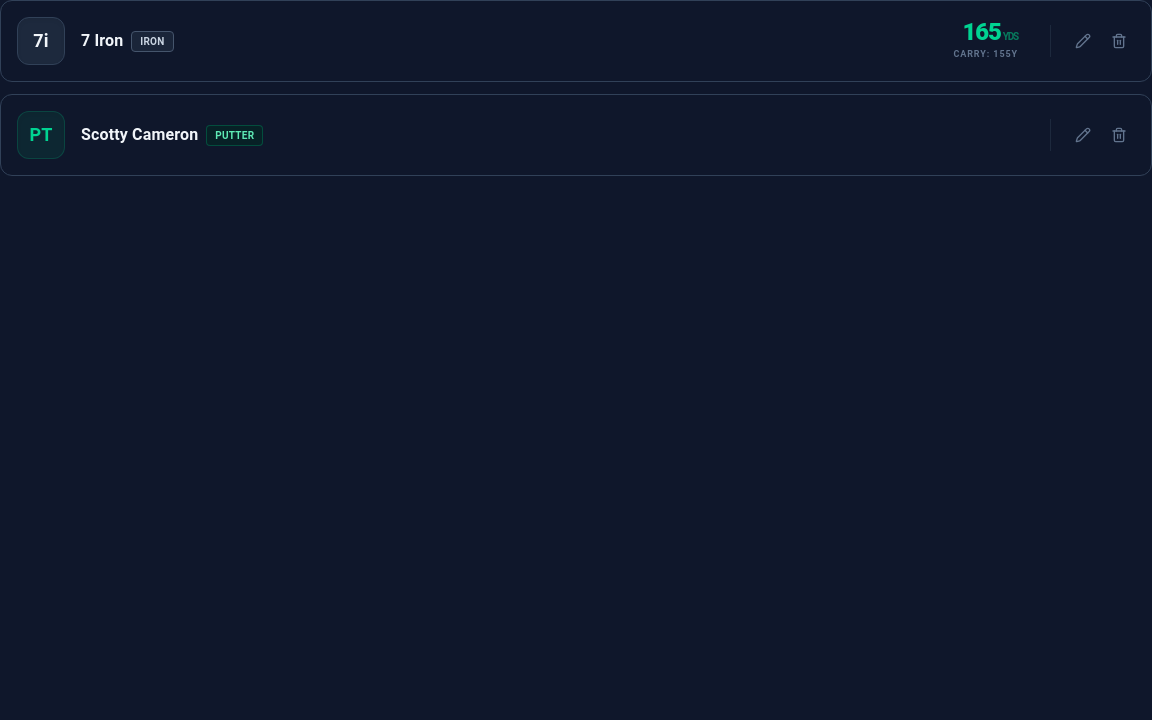
Test: BagClubList Component › Edit Mode — Cancelling › returns to display mode when Cancel is clicked
Click the button named "Edit 7 Iron" at (1083, 41), box 1067,25 -> 1099,57
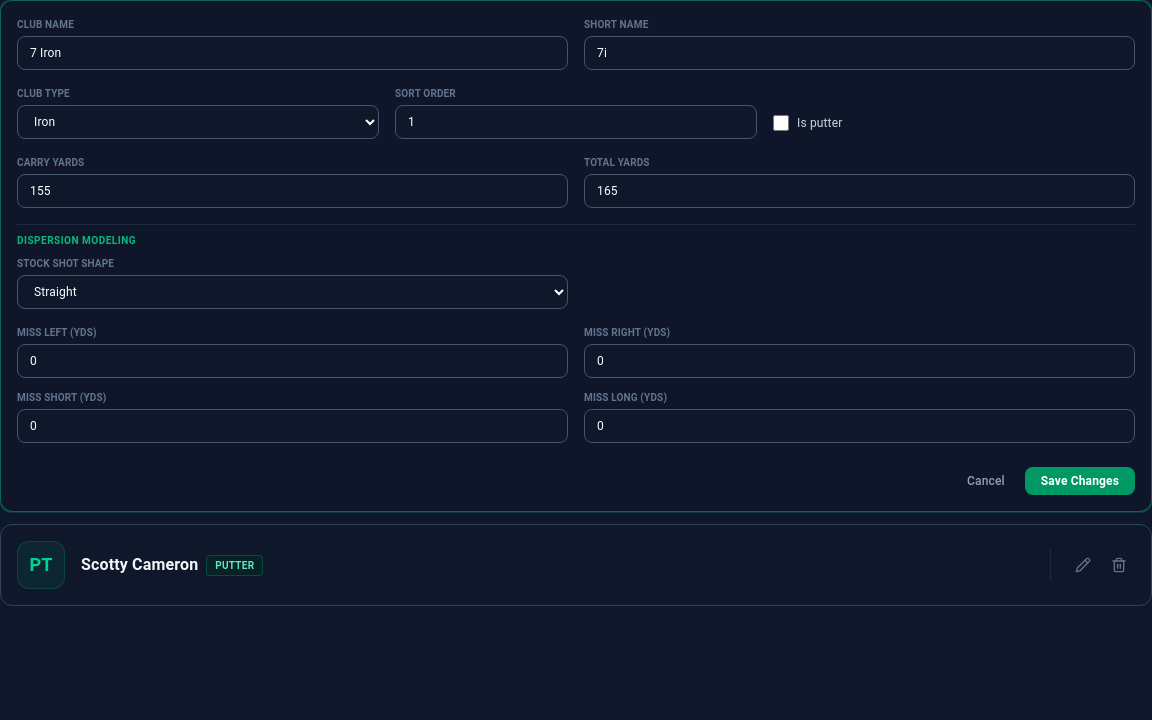
Click the button "Cancel" at (986, 481), box 955,467 -> 1017,495
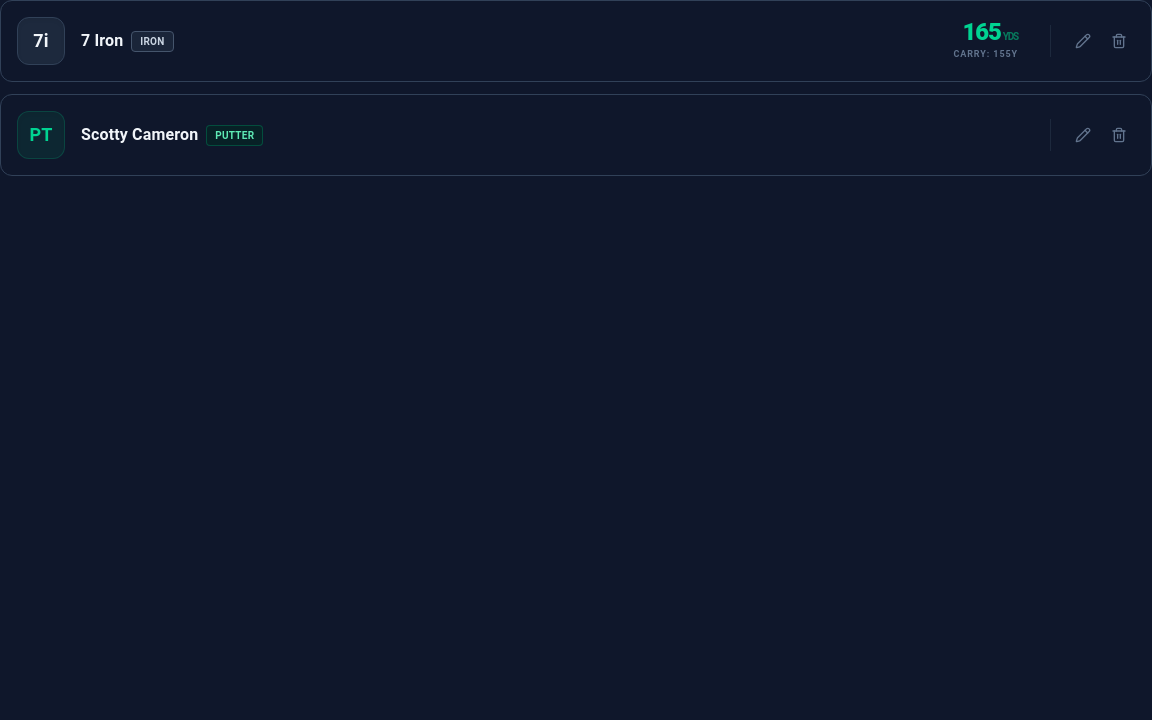
Expected: the label labelled "Club name" is gone
Expected: the text "7 Iron" is shown, 81,29 -> 123,53
Expected: the button named "Edit 7 Iron" is shown, 1067,25 -> 1099,57
